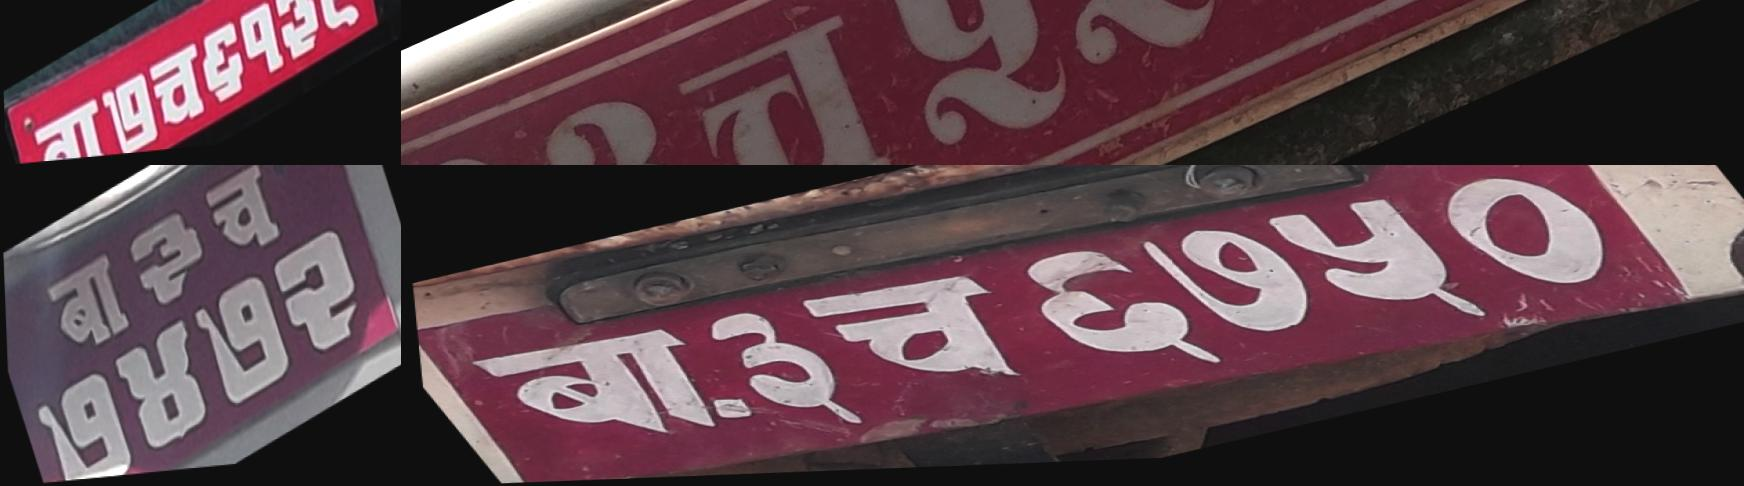0: (1406, 165, 1664, 329), (41, 247, 132, 368)
1: (267, 229, 369, 376), (233, 0, 291, 91)
2: (1008, 0, 1249, 123), (1163, 0, 1408, 67)
3: (685, 294, 883, 452), (509, 72, 734, 165), (269, 0, 329, 73)
5: (1253, 184, 1503, 359), (840, 0, 1093, 165), (107, 316, 215, 466)
6: (987, 230, 1229, 407), (190, 14, 257, 118)
7: (1128, 209, 1350, 370), (29, 363, 135, 484), (94, 66, 166, 158)
9: (200, 165, 283, 275), (307, 0, 371, 50)
ba: (449, 305, 761, 476), (122, 200, 213, 320), (25, 92, 115, 164)
cha: (782, 253, 1067, 428), (656, 1, 913, 165), (143, 38, 216, 141)
lu: (189, 271, 294, 422)
